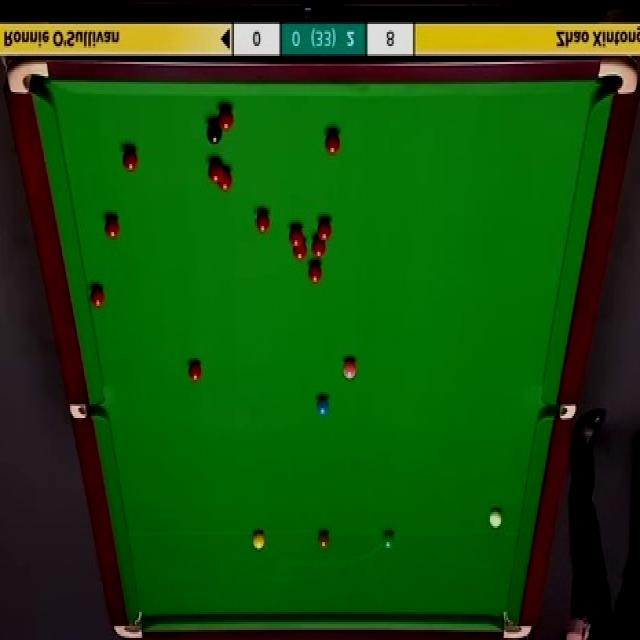pocket: (594, 55, 640, 97), (6, 58, 49, 92), (112, 614, 144, 638), (70, 404, 103, 418)
